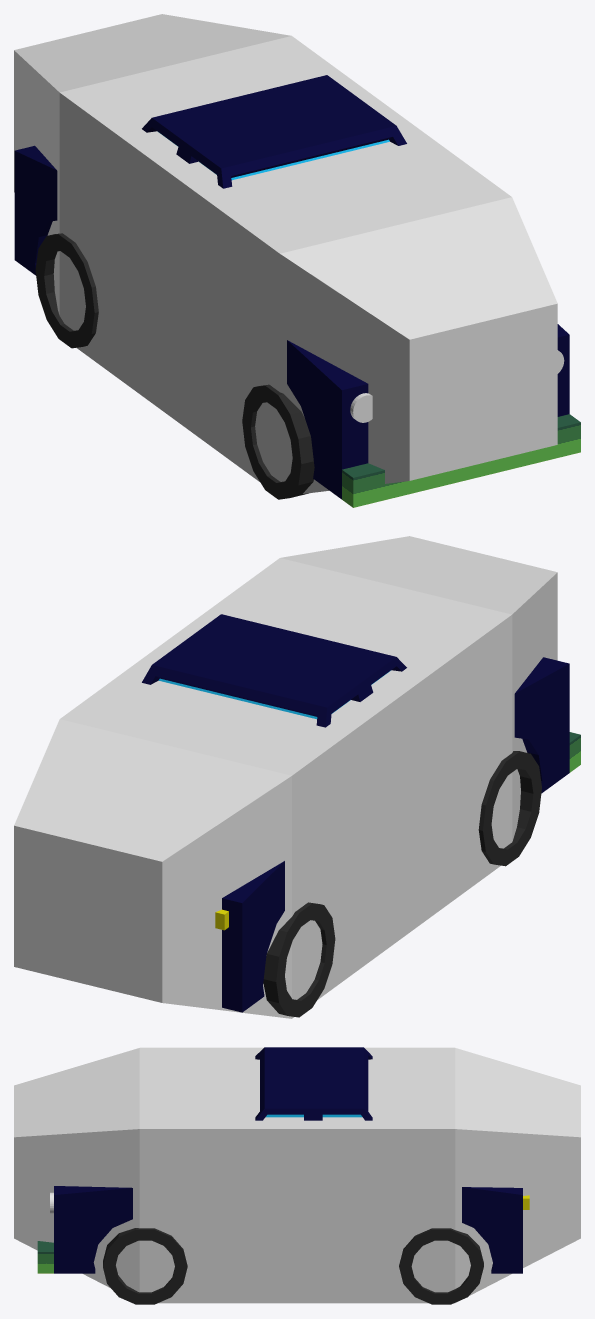
The model's file is AI_sedan.fbx.
3 views of the same model, one above another, from view 1: azimuth 30°, elevation 25°; view 2: azimuth 150°, elevation 25°; view 3: azimuth 270°, elevation 25° (orthographic). The views are drawn at different scales.
Parts seen in each view (by area): view 1: car physic, sedan, wheel.003, wheel.004; view 2: car physic, sedan, wheel.004, wheel.003; view 3: car physic, sedan, wheel.003, wheel.004.
Boxes of the visible parts, x1,y1,x2,y2 form: car physic: (14, 14, 557, 493); sedan: (14, 75, 580, 507); wheel.003: (242, 384, 314, 499); wheel.004: (35, 233, 98, 348); car physic: (14, 536, 557, 1018); sedan: (142, 614, 580, 1012); wheel.004: (263, 902, 335, 1017); wheel.003: (478, 751, 541, 866); car physic: (14, 1047, 580, 1303); sedan: (37, 1047, 529, 1273); wheel.003: (103, 1228, 187, 1304); wheel.004: (399, 1228, 483, 1304).
Bounding box in the file's own units: 207 × 212 × 590.
